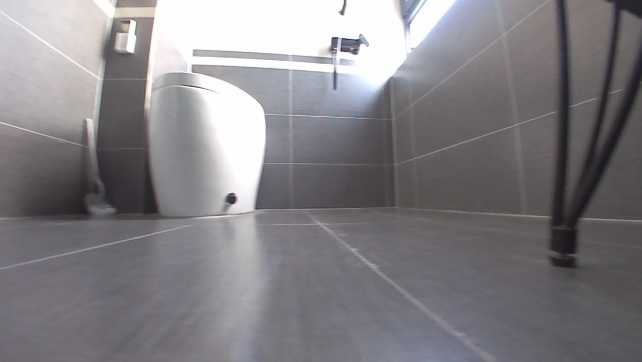toilet: (141, 68, 270, 219)
